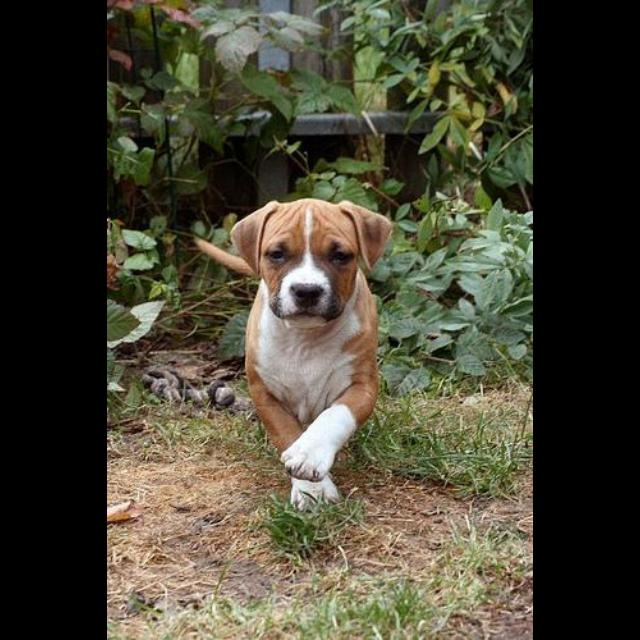amstaff: (142, 197, 395, 513)
